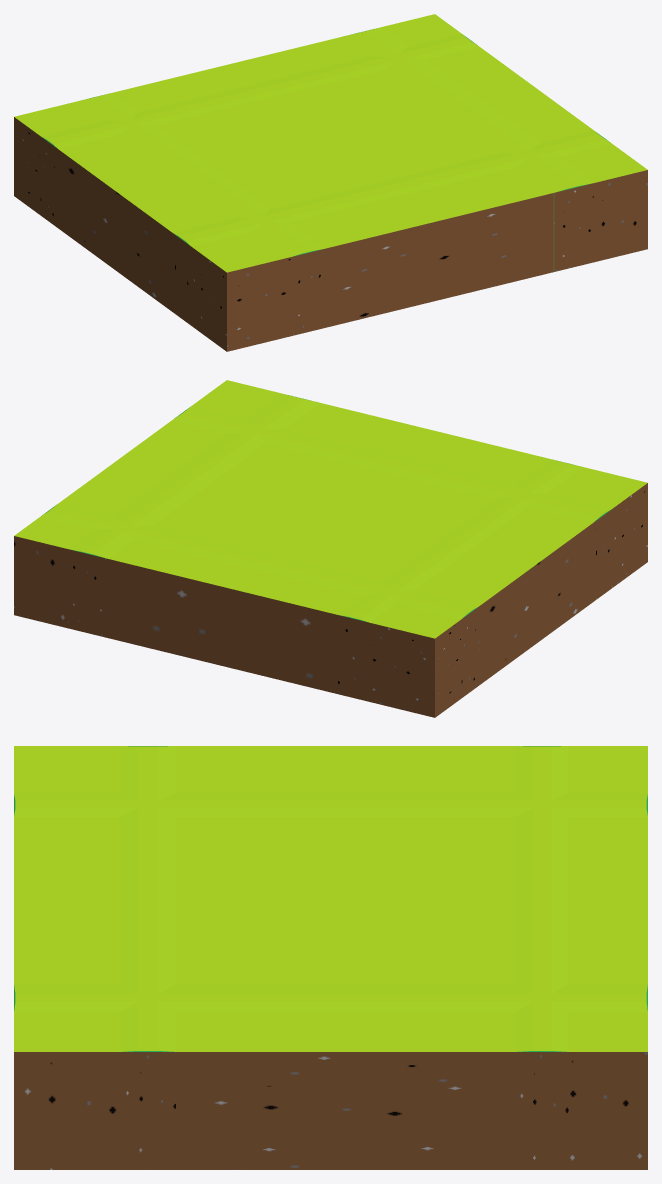
The model's file is WitheredGround.fbx.
3 renders of one model, top to bottom at view 1: azimuth 30°, elevation 25°; view 2: azimuth 150°, elevation 25°; view 3: azimuth 270°, elevation 25°, orthographic. The views are drawn at different scales.
Parts seen in each view (by area): view 1: Cube; view 2: Cube; view 3: Cube.
Boxes of the visible parts, x1,y1,x2,y2 form: Cube: (14,14,647,351); Cube: (14,380,647,717); Cube: (14,746,647,1169).
Size of the model in its own units: 389 by 70.22 by 341.
